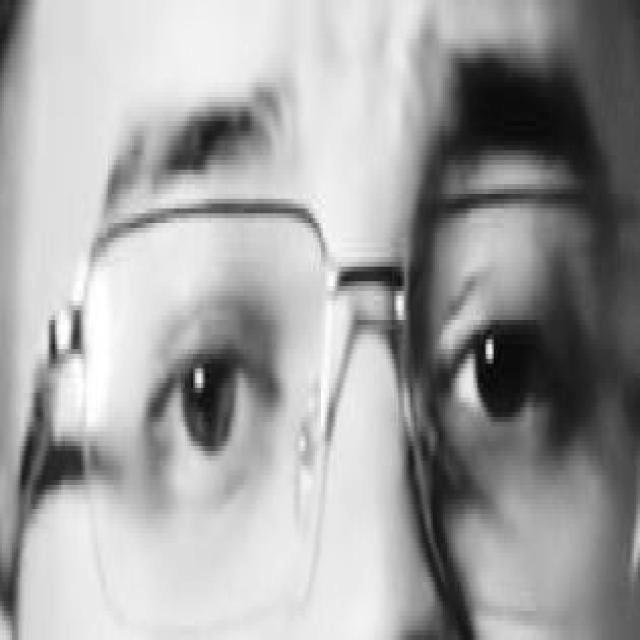real: (88, 219, 614, 556)
